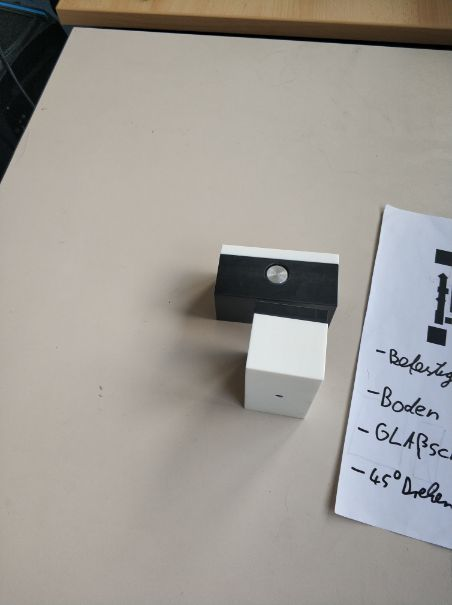white+black+silver: (215, 242, 341, 319)
